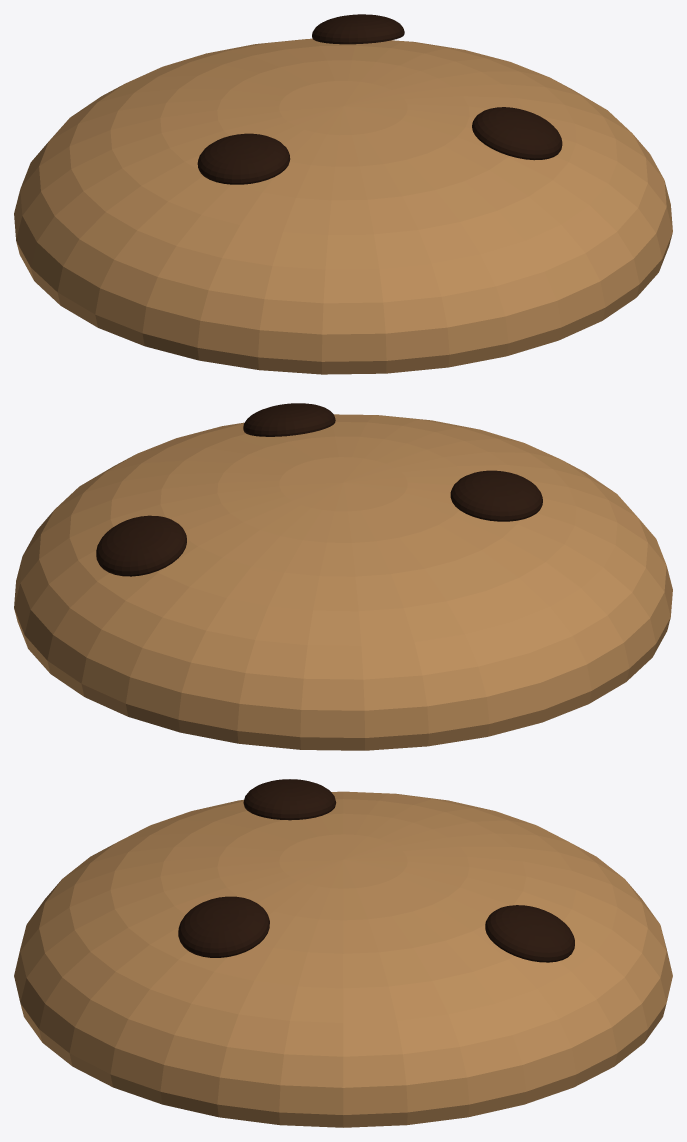
Rendered from NEWcookie.fbx.
The picture shows the model from 3 angles, top to bottom: view 1: azimuth 30°, elevation 25°; view 2: azimuth 150°, elevation 25°; view 3: azimuth 270°, elevation 25°; orthographic projection.
Visible parts, largest first — view 1: Sphere; view 2: Sphere; view 3: Sphere.
Part boxes in pixels (<box>): Sphere: <box>14,14,672,374</box>; Sphere: <box>14,403,672,750</box>; Sphere: <box>14,779,672,1127</box>.
Size of the model in its own units: 26.2 by 6.26 by 26.2.
